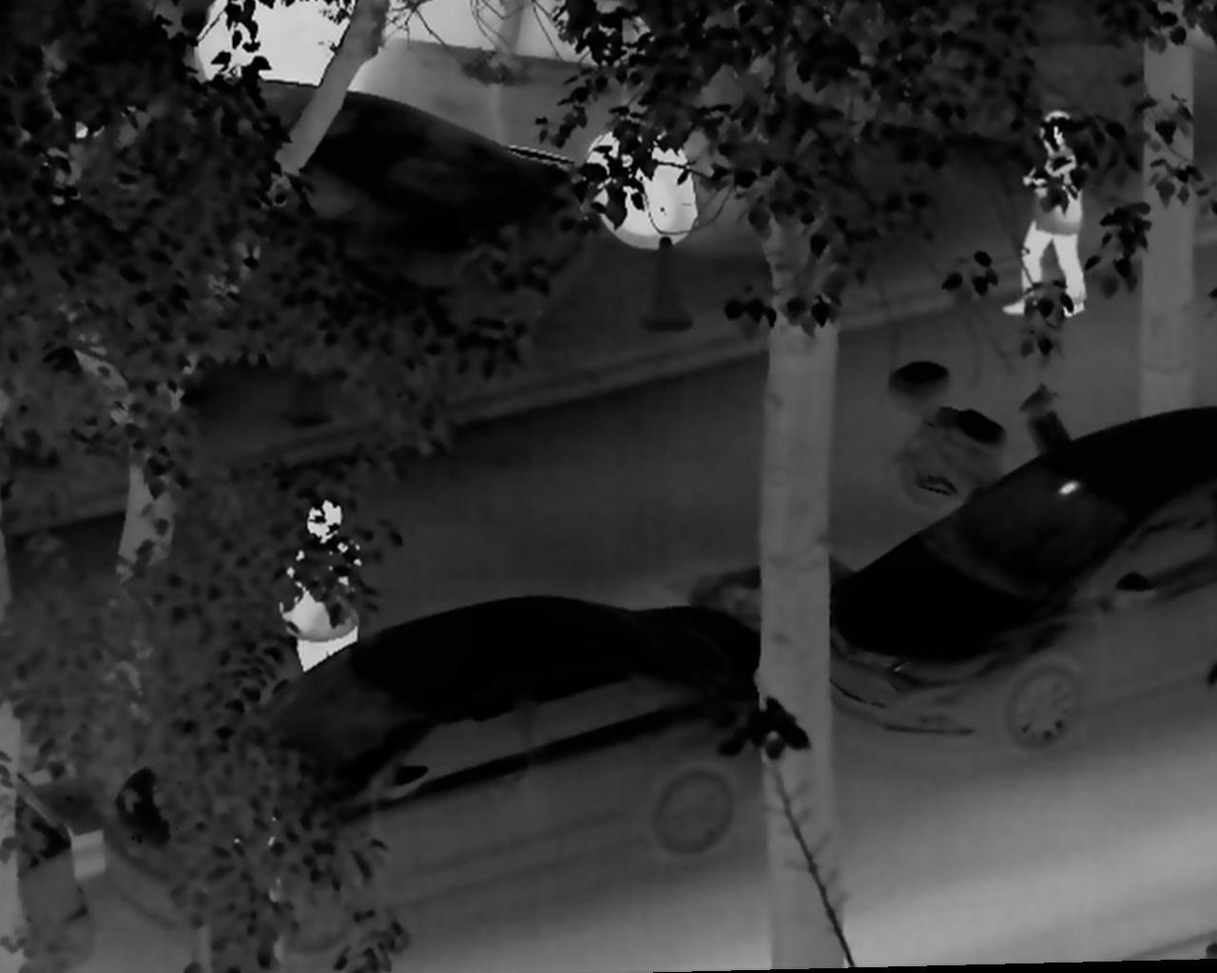person: (998, 108, 1094, 324), (277, 491, 364, 677)
